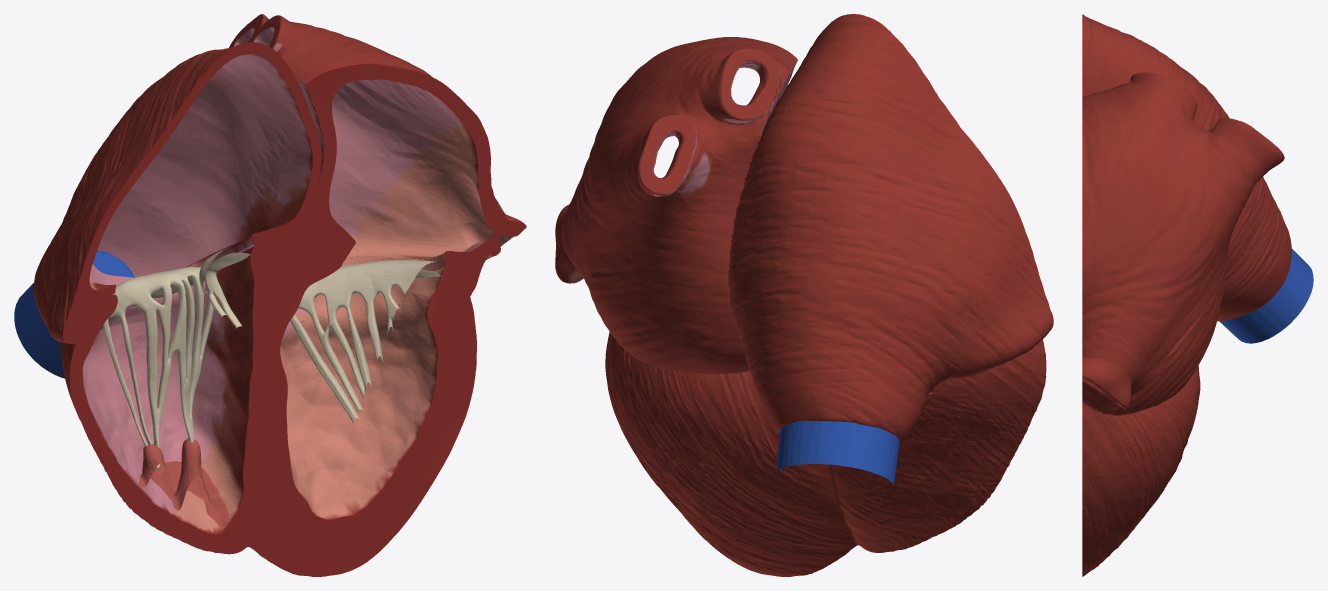
Rendered from heart-cut.glb.
3 renders of one model, left to right at view 1: azimuth 30°, elevation 25°; view 2: azimuth 150°, elevation 25°; view 3: azimuth 270°, elevation 25°, orthographic. The views are drawn at different scales.
Parts seen in each view (by area): view 1: heart_cut, valve_tricuspid, valve_mitral, papillary_R, ivc; view 2: heart_cut, ivc; view 3: heart_cut, ivc.
Part boxes in pixels (bbox=[...]): heart_cut: bbox=[34, 14, 526, 576]; valve_tricuspid: bbox=[103, 248, 250, 469]; valve_mitral: bbox=[290, 260, 440, 423]; papillary_R: bbox=[137, 438, 230, 528]; ivc: bbox=[14, 250, 134, 378]; heart_cut: bbox=[555, 14, 1053, 576]; ivc: bbox=[776, 420, 899, 485]; heart_cut: bbox=[1082, 14, 1291, 576]; ivc: bbox=[1219, 248, 1313, 343].
Size of the model in its own units: 0.271 by 0.3087 by 0.1273.
